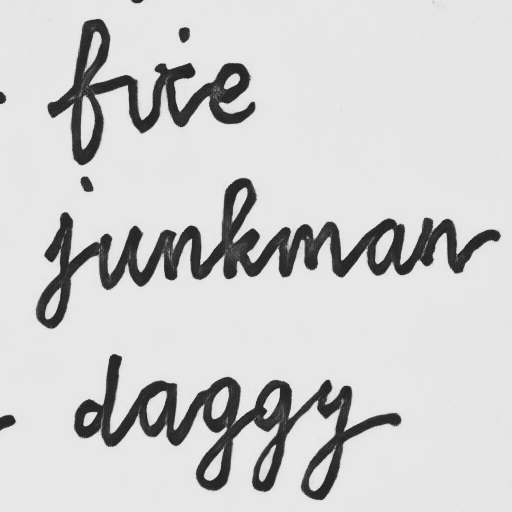a: (362, 216, 409, 278)
j: (34, 209, 77, 329)
k: (217, 176, 264, 281)
m: (276, 217, 346, 279)
n: (158, 222, 205, 284), (416, 214, 463, 273)
u: (93, 223, 146, 291)
